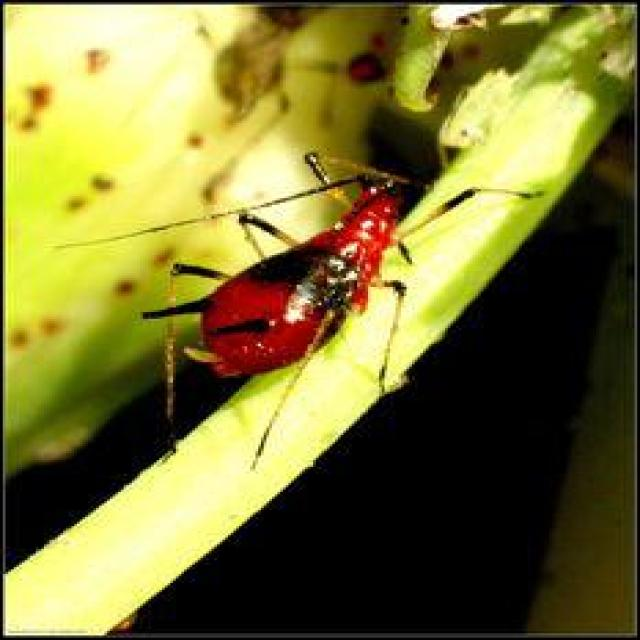Aphids: (114, 138, 526, 432)
